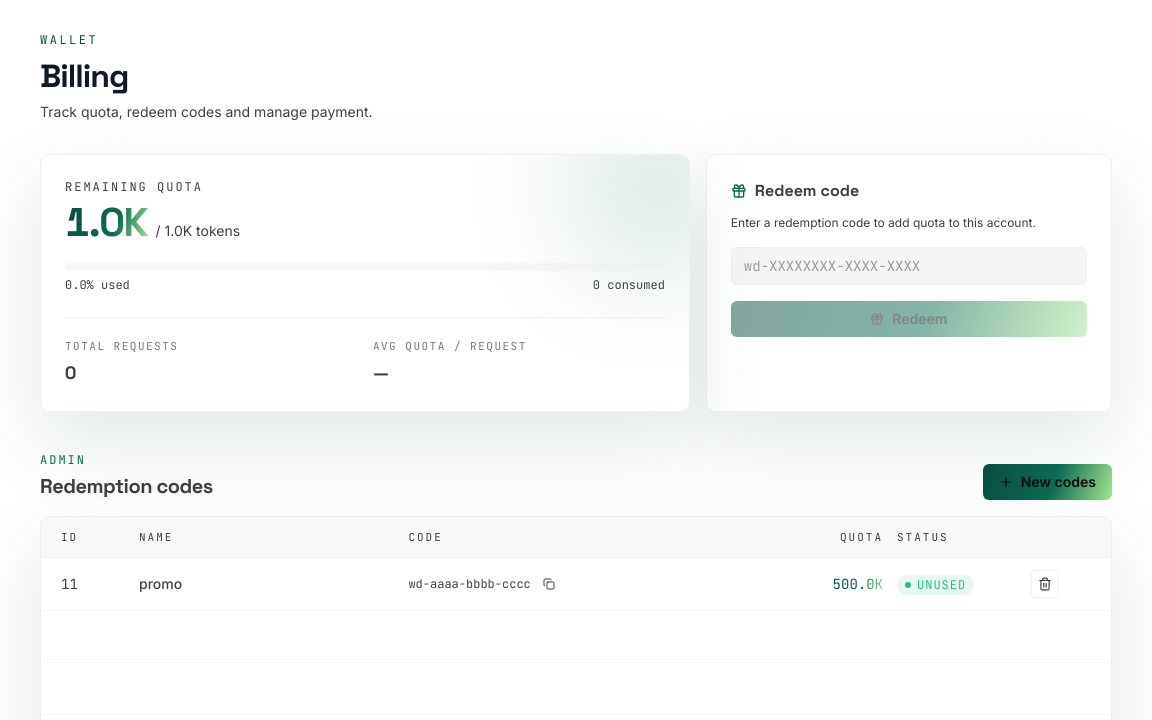
/console/billing redemption delete errors › surfaces the API error when deleting a redemption fails after confirm
This screenshot has width=1152, height=720.
Expected: the text "promo" is shown, [139,575,182,592]
Click the button named "Delete": (1045, 584) [1031,570,1059,598]
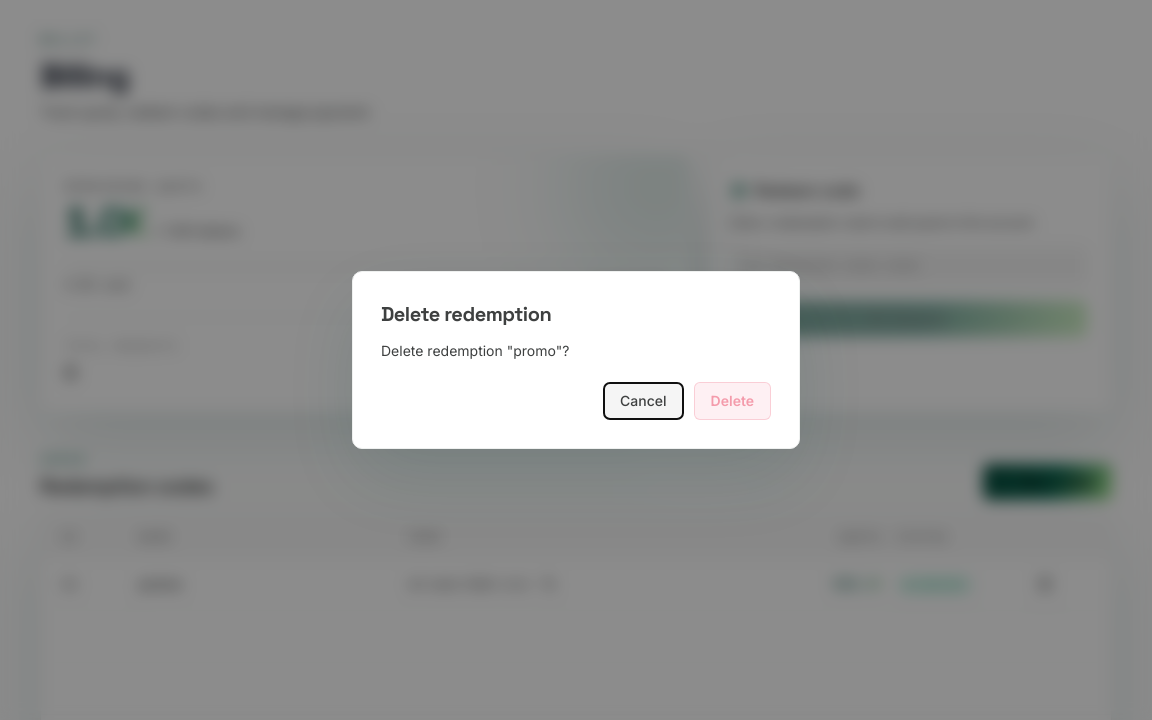
Click the button "Delete": (732, 401) [694,382,771,420]
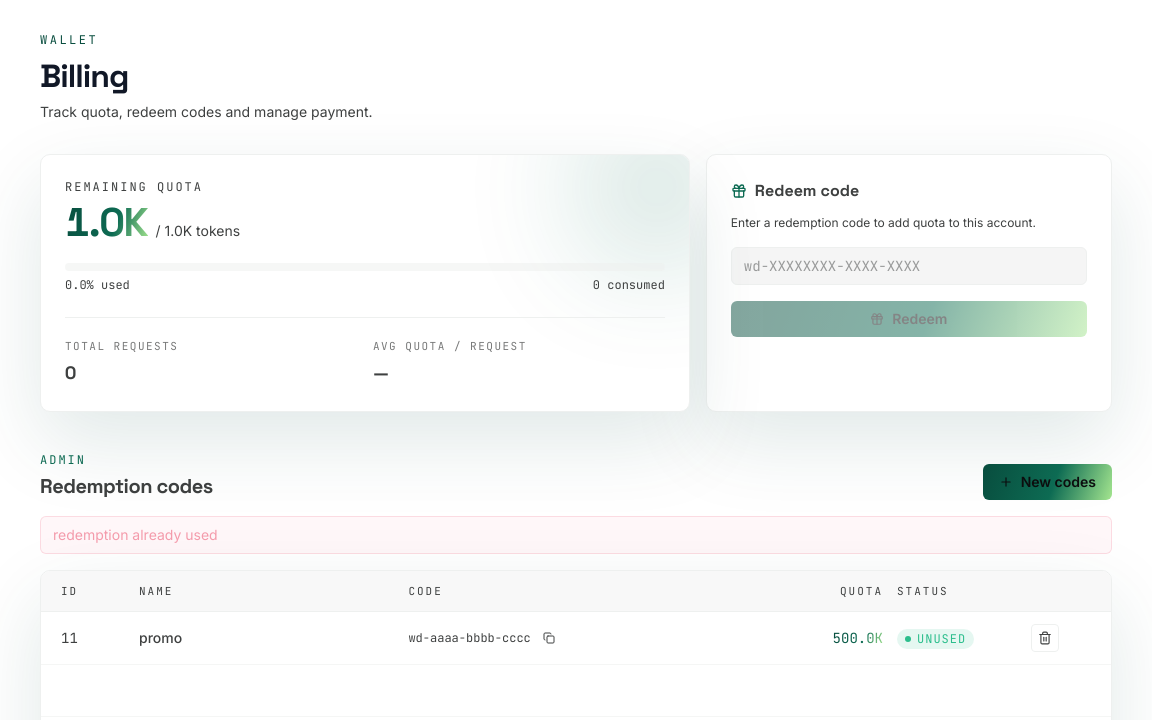
Now the text "redemption already used" is shown, box [40,516,1112,554]
